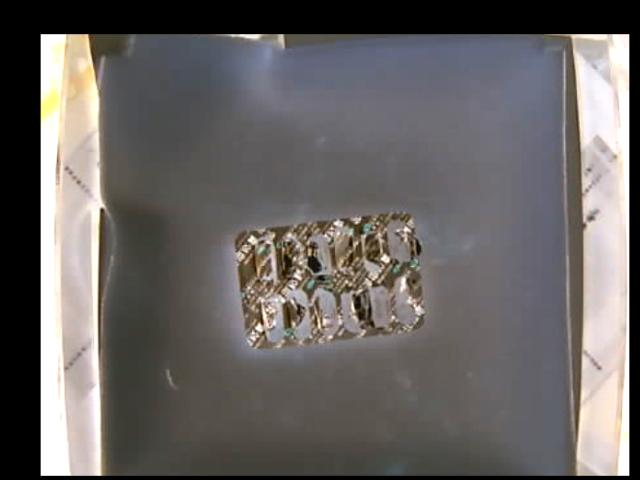Medicine: (235, 213, 425, 347)
